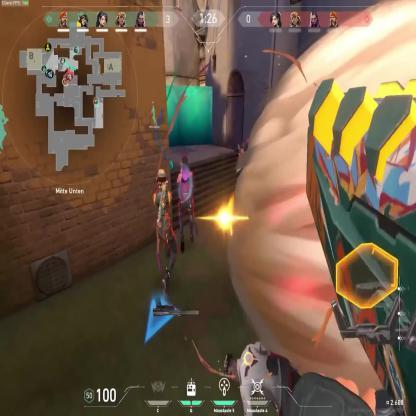enemy: (152, 171, 177, 292), (174, 154, 199, 254), (233, 138, 258, 210)
enemy_head: (156, 168, 168, 188), (239, 142, 248, 158), (181, 156, 188, 170)
